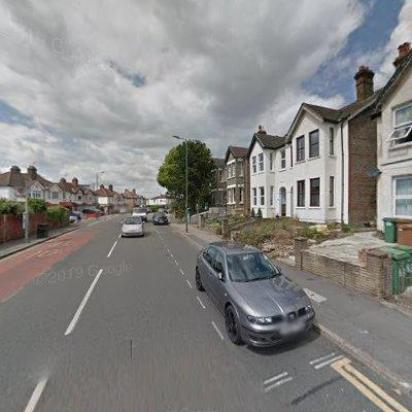moving-car: (120, 214, 146, 238)
moving-light-truck: (131, 206, 149, 222)
stationary-car-onstreet: (195, 239, 321, 349), (152, 210, 168, 226)
